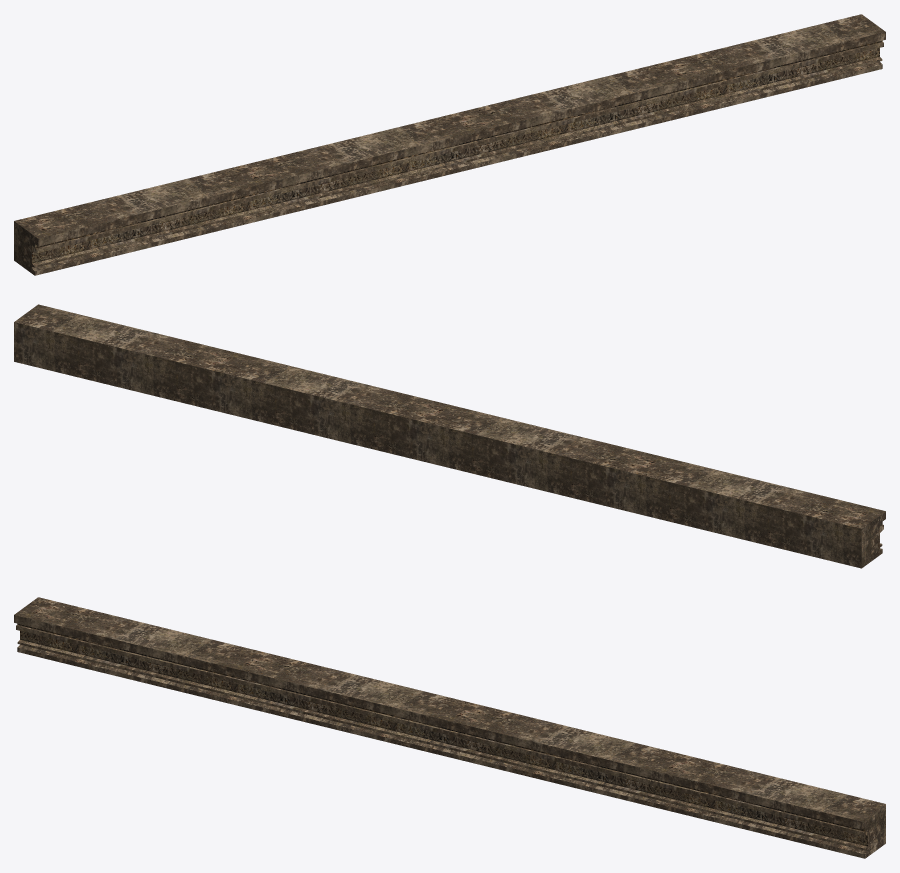
The model's file is materials_5_stonestick_long_0.fbx.
3 views of the same model, one above another, from view 1: azimuth 30°, elevation 25°; view 2: azimuth 150°, elevation 25°; view 3: azimuth 330°, elevation 25° (orthographic).
Parts seen in each view (by area): view 1: materials_5_stonestick_long_0; view 2: materials_5_stonestick_long_0; view 3: materials_5_stonestick_long_0.
Part boxes in pixels (x1,y1,x2,y2): materials_5_stonestick_long_0: (14, 14, 885, 275); materials_5_stonestick_long_0: (14, 304, 885, 568); materials_5_stonestick_long_0: (14, 597, 885, 858).
Bounding box in the file's own units: 512 × 22.86 × 25.44.
